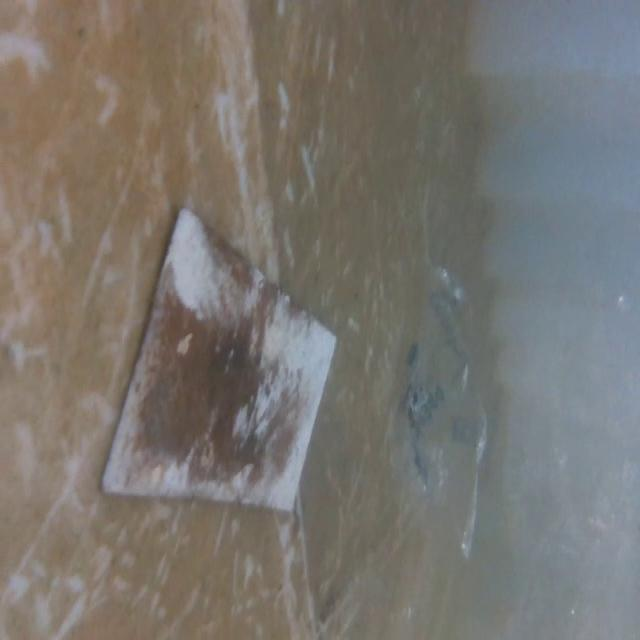plastic bags: (381, 274, 492, 572)
